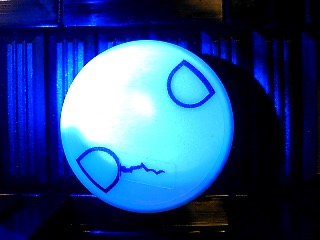CRACK: (59, 39, 234, 214)
